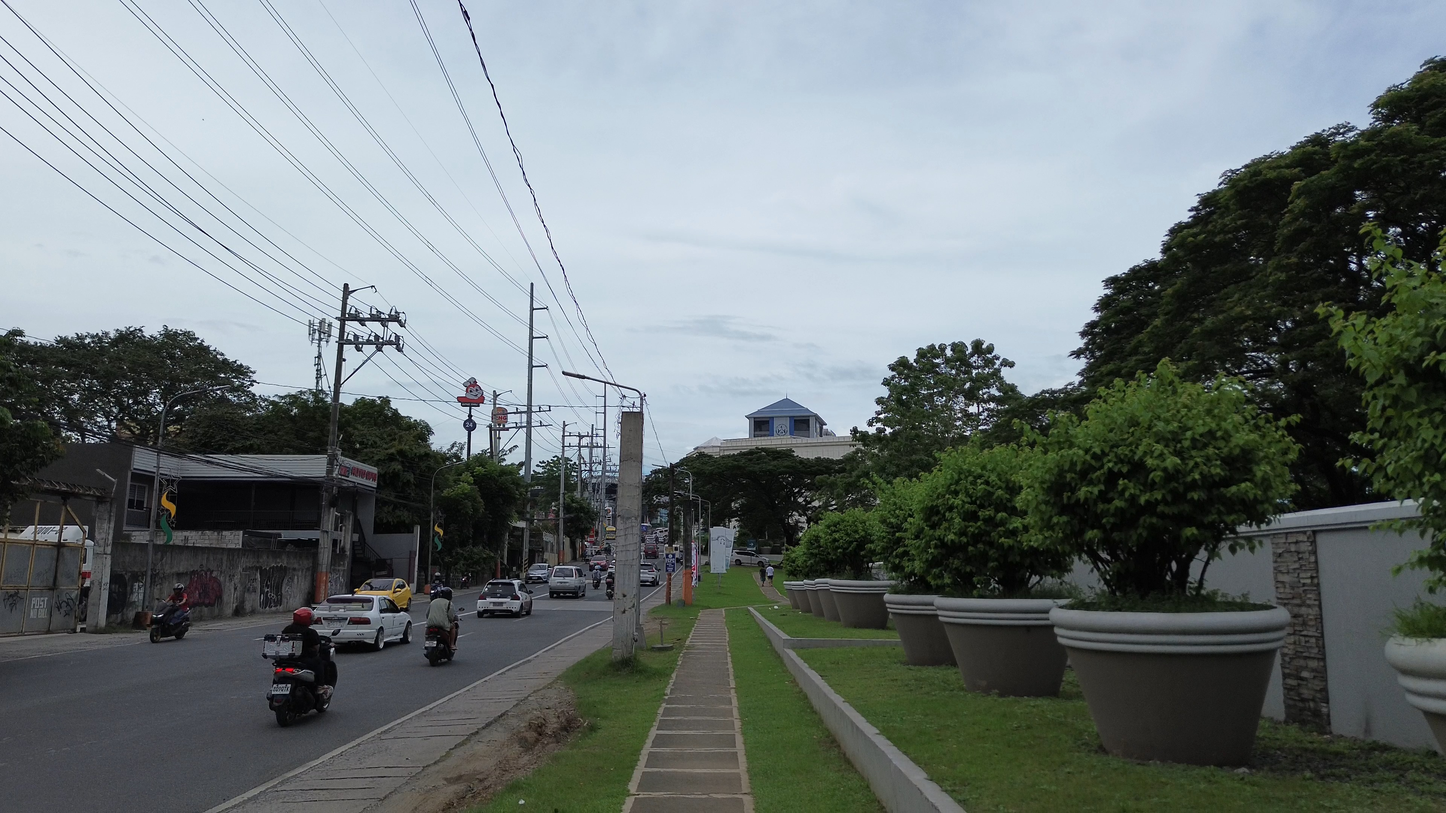car: (314, 595, 412, 650), (477, 580, 532, 618), (353, 577, 412, 610)
motorcycle: (263, 634, 334, 726), (149, 604, 190, 642), (424, 626, 455, 666), (592, 571, 601, 589)
vehicle: (263, 634, 331, 726), (548, 565, 586, 598), (523, 563, 551, 583), (733, 550, 767, 566), (639, 562, 659, 586), (642, 540, 659, 558), (592, 569, 602, 588), (604, 526, 616, 540)
